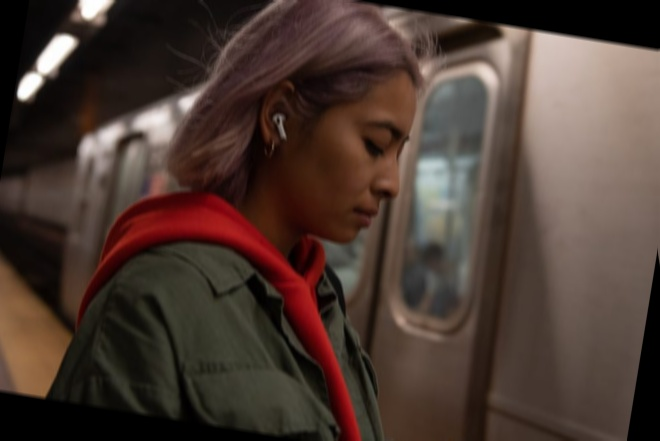earphone: (256, 77, 301, 150)
